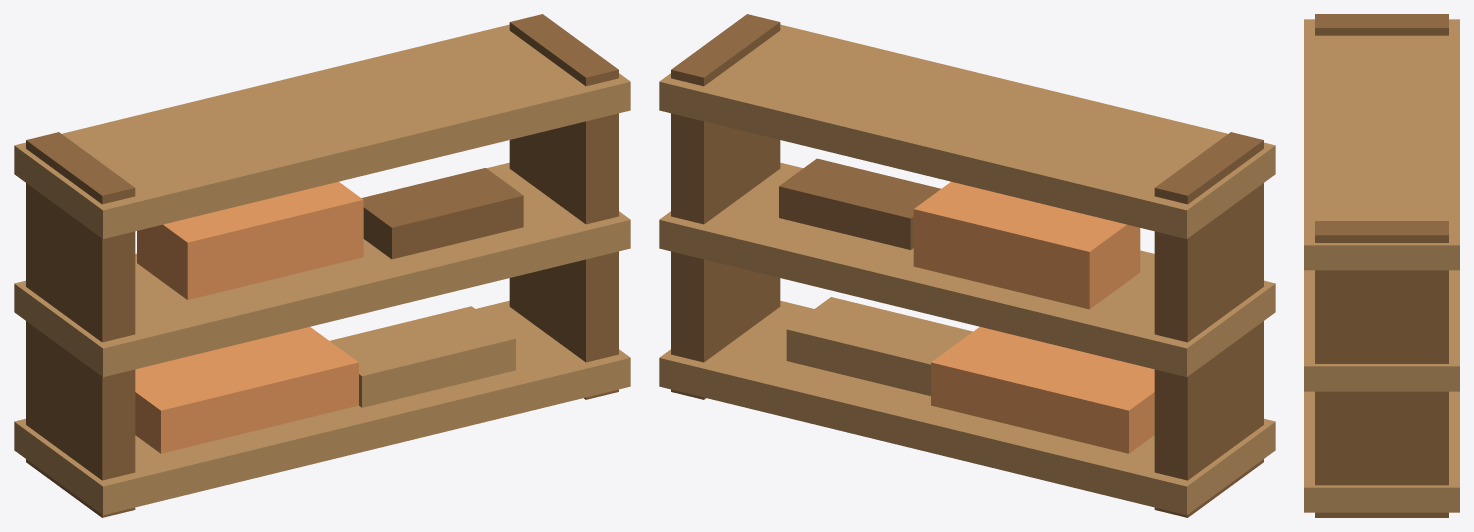
File: wood_shelf.glb
The picture shows the model from 3 angles, left to right: view 1: azimuth 30°, elevation 25°; view 2: azimuth 150°, elevation 25°; view 3: azimuth 270°, elevation 25°; orthographic projection. The views are drawn at different scales.
Visible parts, largest first — view 1: wood_shelf; view 2: wood_shelf; view 3: wood_shelf.
Part boxes in pixels (x1,y1,x2,y2): wood_shelf: [14, 14, 630, 517]; wood_shelf: [659, 14, 1275, 517]; wood_shelf: [1304, 14, 1459, 517].
Bounding box in the file's own units: 48 × 28 × 14.
